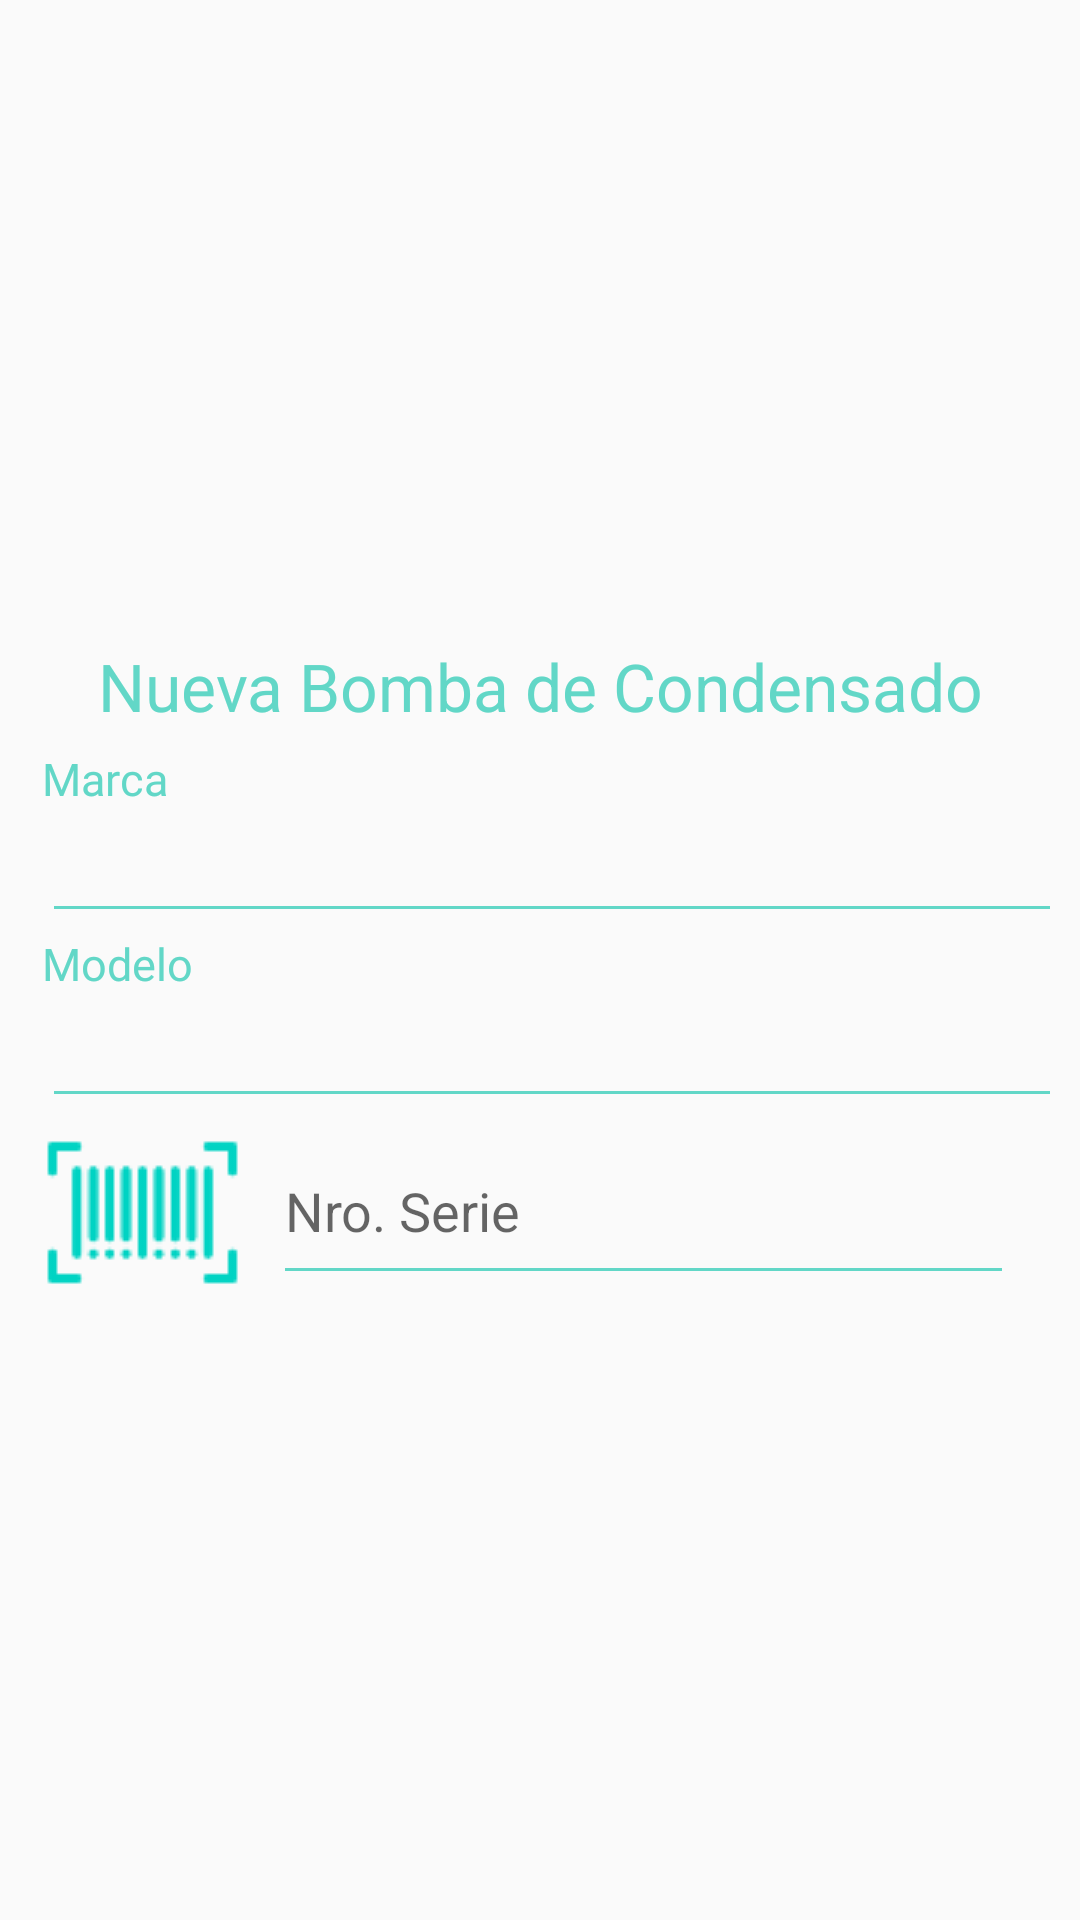

Icon click points for this 1080w x 1920h phone screenshot, format (x,y):
code: (142,1212)
